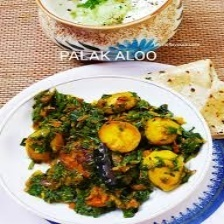roti: (155, 59, 224, 136)
